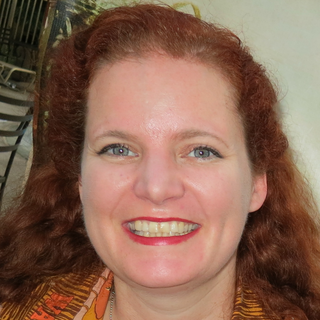eye: (173, 141, 230, 166), (90, 138, 145, 163)
